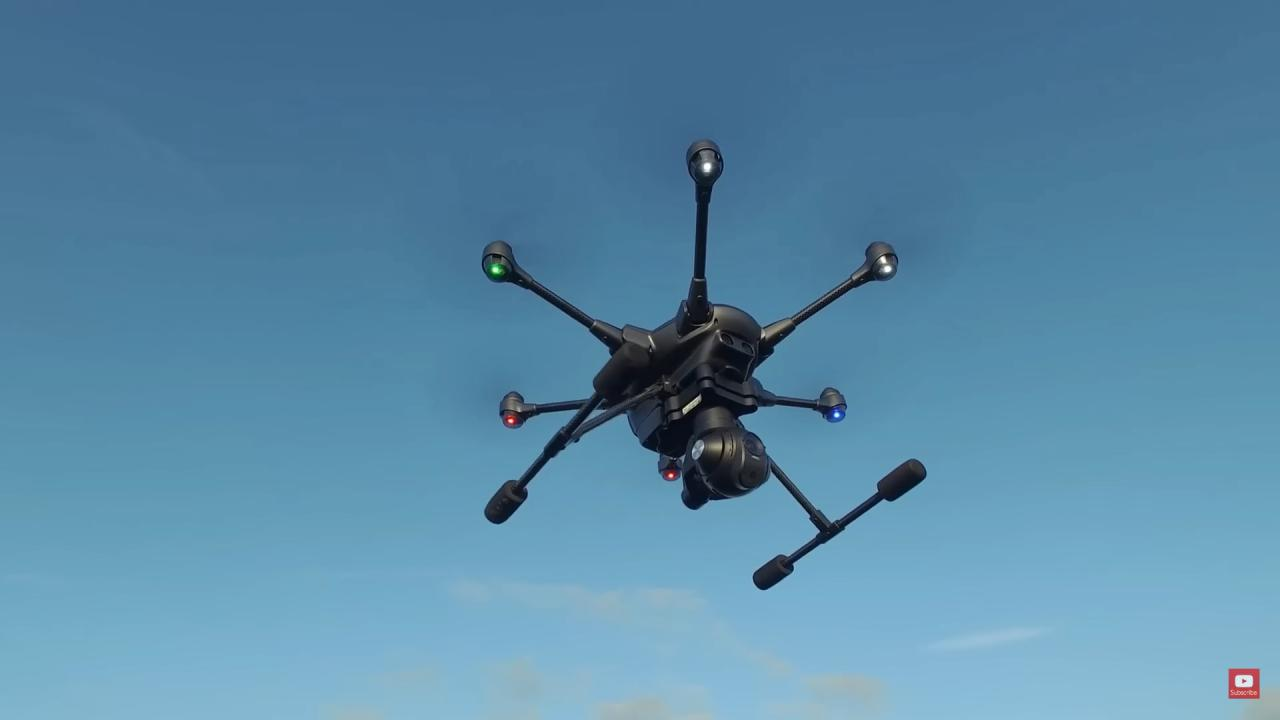Drone: (462, 127, 937, 601)
